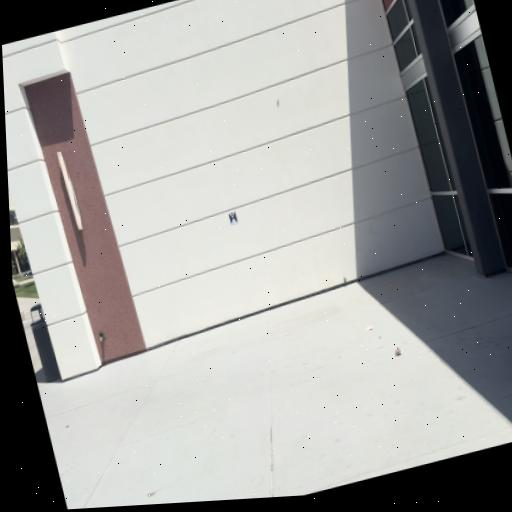target0: (228, 209, 239, 226)
